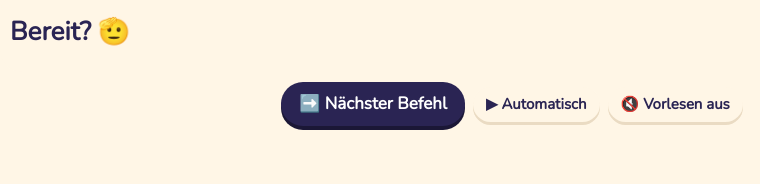
Test: commands › automatisch wechselt alle 4500 ms und pausiert
Click the button "▶ Automatisch".
click(536, 104)  # box [473, 87, 600, 122]
Wait 4500 ms
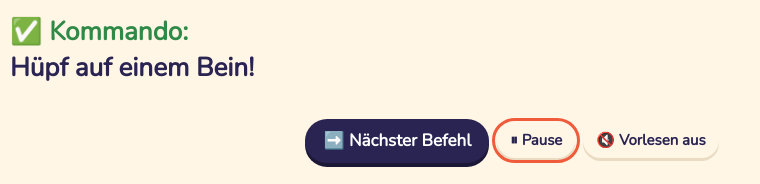
Check: the button "⏸ Pause" is shown
Click the button "⏸ Pause".
click(536, 141)  # box [497, 123, 575, 158]
Wait 9000 ms
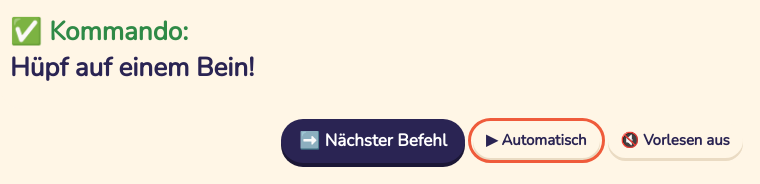
Check: the button "▶ Automatisch" is shown, box [473, 123, 600, 158]
